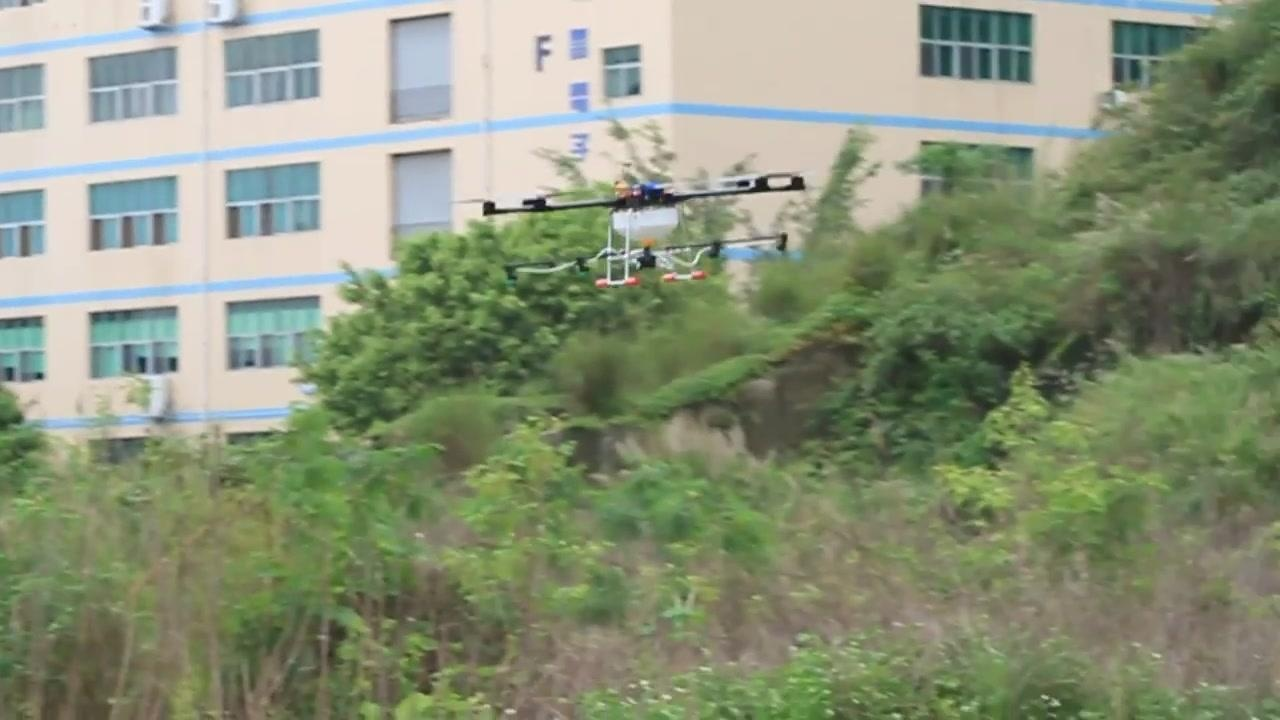UAV: (484, 174, 807, 289)
